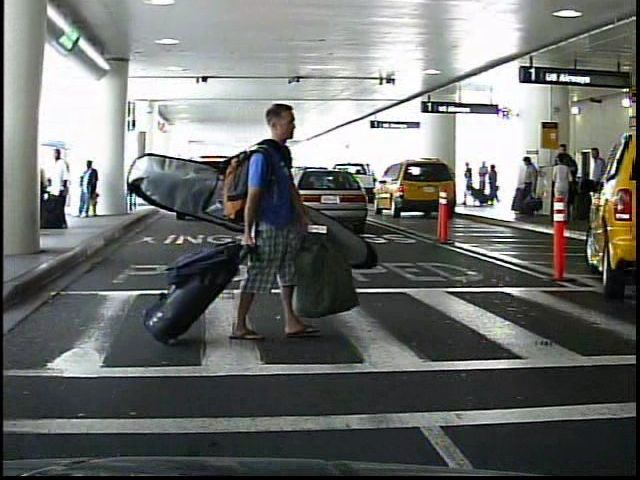person: (238, 95, 332, 361), (40, 146, 73, 232), (75, 158, 103, 225), (553, 143, 575, 221), (585, 145, 607, 220), (551, 155, 574, 225), (518, 157, 541, 222), (462, 160, 476, 208), (478, 161, 491, 208), (487, 162, 498, 206)
